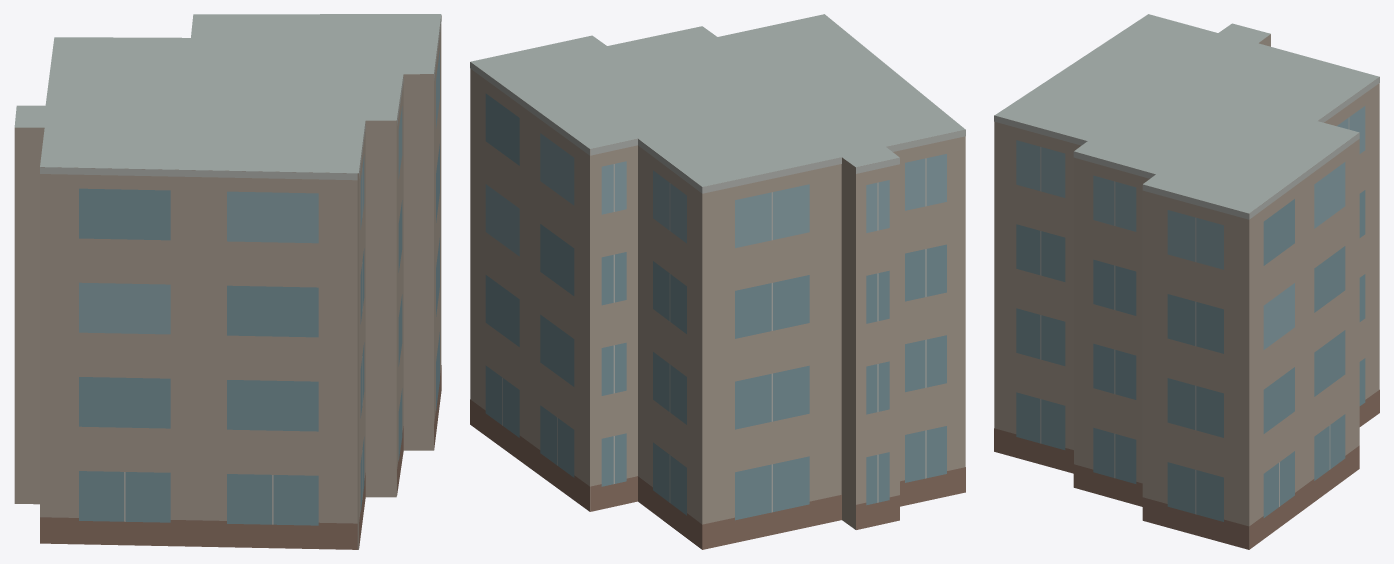
Rendered from survey-upis-32697568.glb.
3 renders of one model, left to right at view 1: azimuth 30°, elevation 25°; view 2: azimuth 150°, elevation 25°; view 3: azimuth 270°, elevation 25°, orthographic. The views are drawn at different scales.
Visible parts, largest first — view 1: survey-upis-32697568.tmp; view 2: survey-upis-32697568.tmp; view 3: survey-upis-32697568.tmp.
Part boxes in pixels (bbox=[...]): survey-upis-32697568.tmp: bbox=[14, 14, 441, 549]; survey-upis-32697568.tmp: bbox=[470, 14, 965, 549]; survey-upis-32697568.tmp: bbox=[994, 14, 1379, 549].
Bounding box in the file's own units: 16.91 × 13.28 × 13.8.
